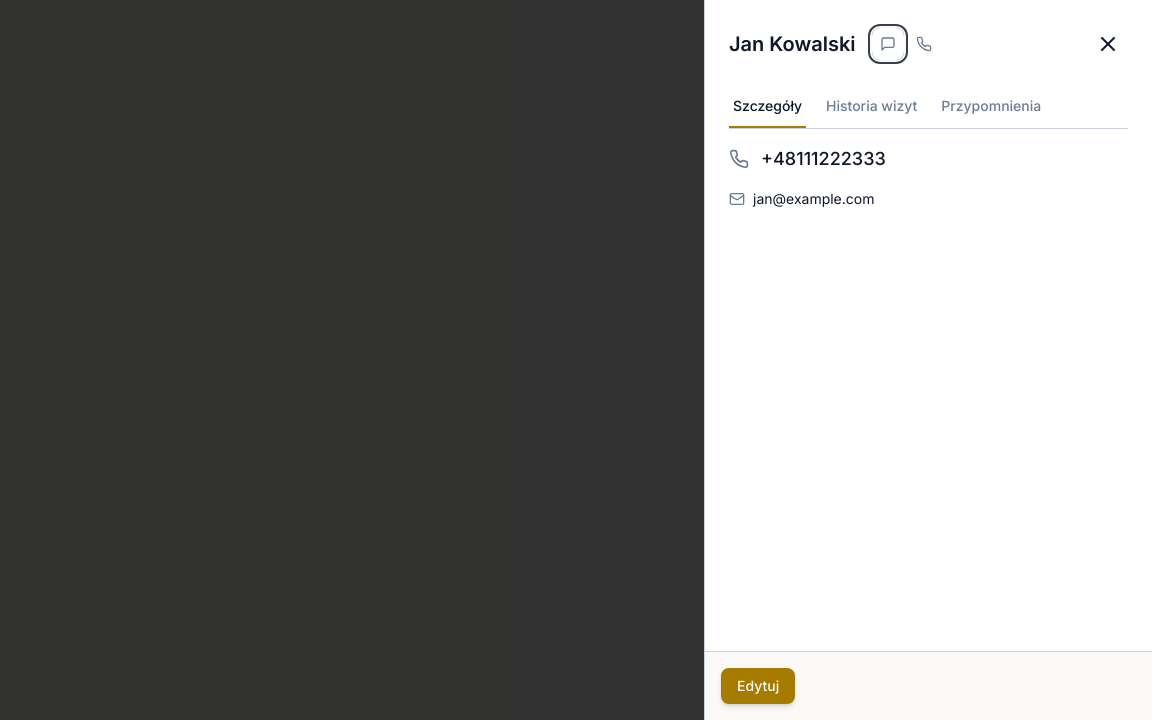
CustomerEditDrawer › visit history › shows empty state when there are no visits
Click the tab "Historia wizyt".
click(872, 108)  # box x1=822 y1=88 x2=921 y2=128
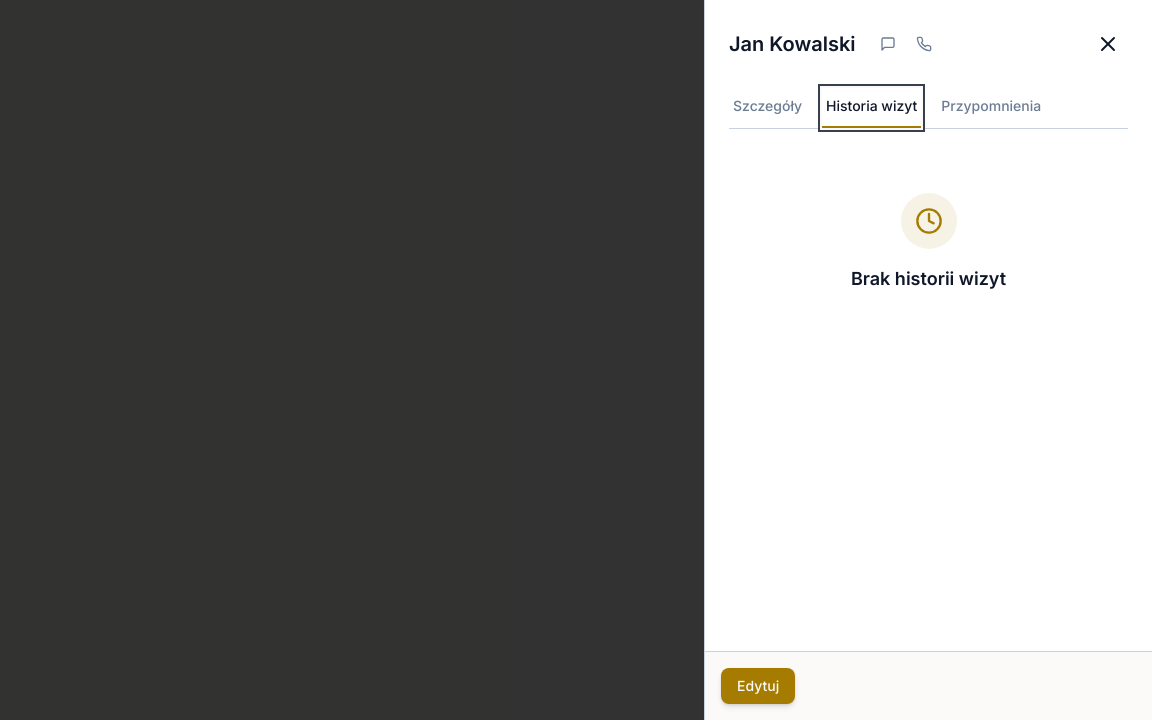
expect the heading "Brak historii wizyt" is shown: met, box x1=851 y1=265 x2=1006 y2=293
